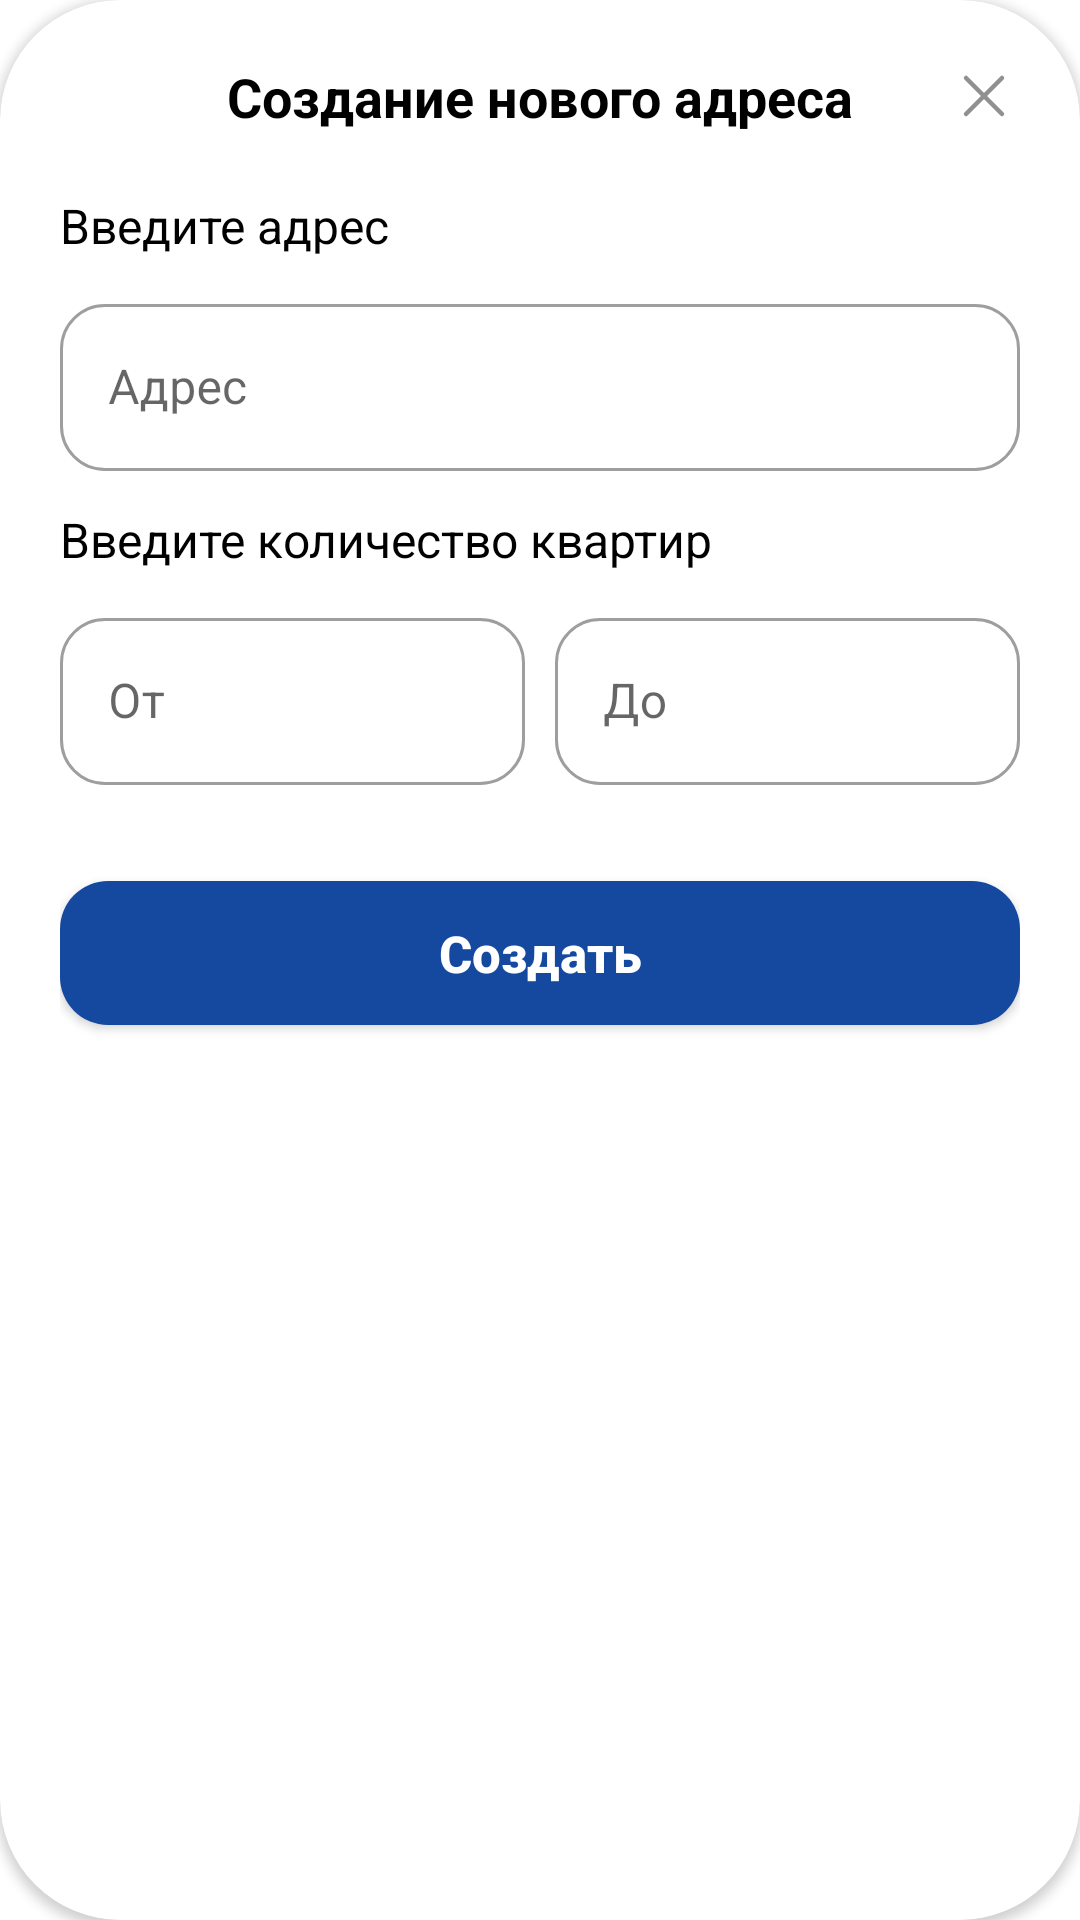

Where to tap for icons on this 1080x1920 app screen, as [x,y]:
cancel: [984,95]
